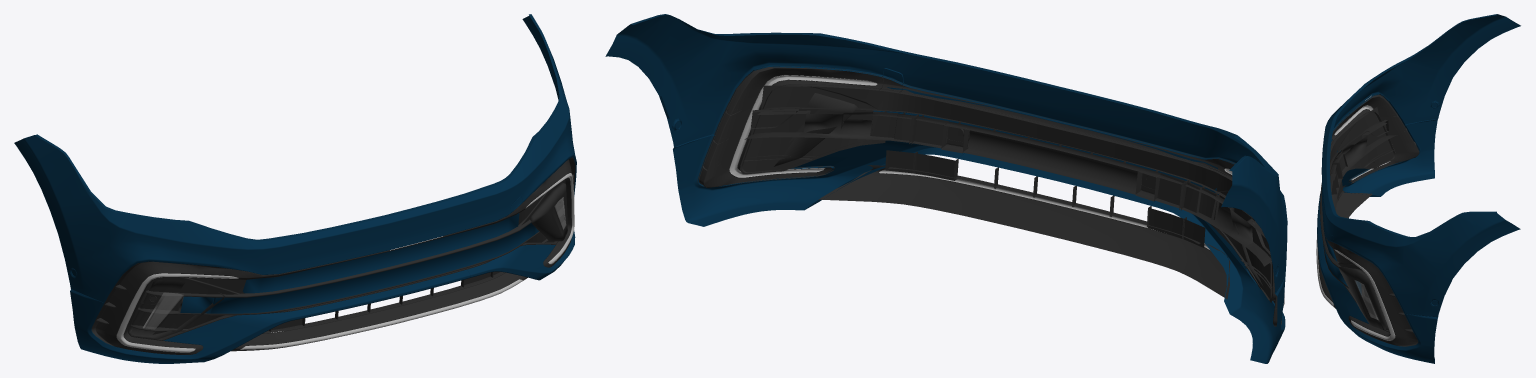
3 renders of one model, left to right at view 1: azimuth 30°, elevation 25°; view 2: azimuth 150°, elevation 25°; view 3: azimuth 270°, elevation 25°, orthographic. The views are drawn at different scales.
Parts seen in each view (by area): view 1: front bumper 3; view 2: front bumper 3; view 3: front bumper 3.
Part boxes in pixels (x1,y1,x2,y2): front bumper 3: (14,14,576,363); front bumper 3: (605,14,1287,363); front bumper 3: (1316,14,1520,363).
Bounding box in the file's own units: 1.89 × 0.6723 × 0.8057.
Materials: 4 (1 with a texture image).
